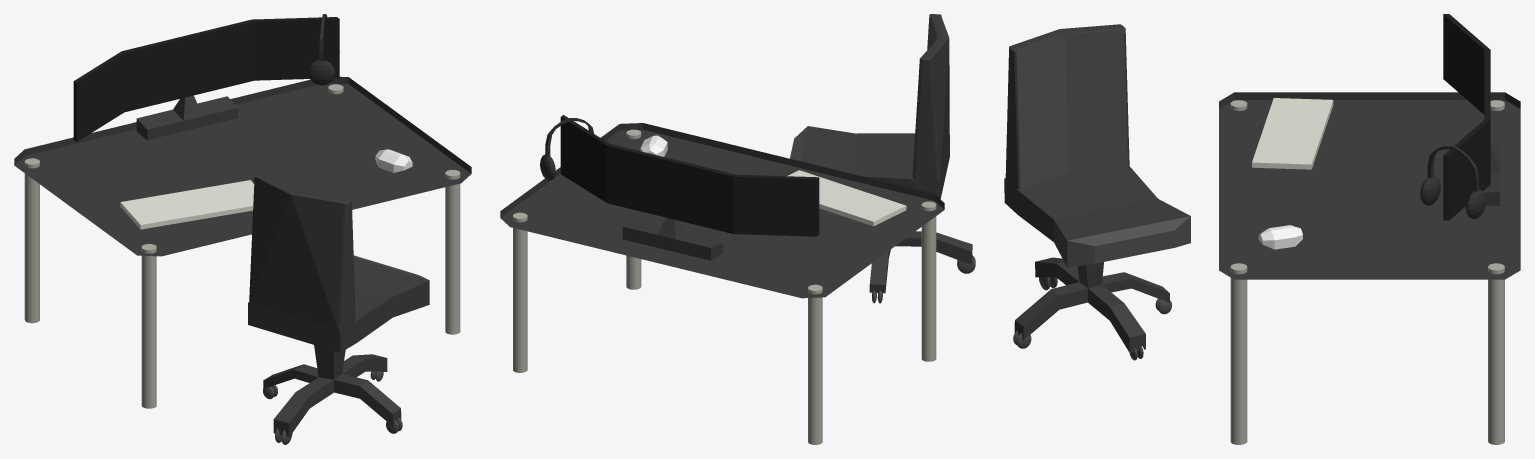
File: desk_maybe.glb
3 renders of one model, left to right at view 1: azimuth 30°, elevation 25°; view 2: azimuth 150°, elevation 25°; view 3: azimuth 270°, elevation 25°, orthographic. The views are drawn at different scales.
Parts seen in each view (by area): view 1: Table1, Seat2, Triple Monitor, White Keyboard, Headphones, White Mouse; view 2: Table1, Triple Monitor, Seat2, White Keyboard, Headphones; view 3: Table1, Seat2, Triple Monitor, White Keyboard, Headphones, White Mouse.
Part boxes in pixels (left/top/right/bottom): Table1: left=14, top=76, right=471, bottom=408; Seat2: left=248, top=173, right=429, bottom=444; Triple Monitor: left=73, top=17, right=339, bottom=141; White Keyboard: left=120, top=180, right=254, bottom=229; Headphones: left=307, top=14, right=339, bottom=85; White Mouse: left=375, top=149, right=412, bottom=172; Table1: left=500, top=123, right=944, bottom=444; Triple Monitor: left=560, top=115, right=819, bottom=260; Seat2: left=790, top=14, right=975, bottom=303; White Keyboard: left=787, top=170, right=906, bottom=226; Headphones: left=540, top=118, right=593, bottom=180; Table1: left=1219, top=92, right=1520, bottom=444; Seat2: left=1004, top=24, right=1190, bottom=360; Triple Monitor: left=1443, top=14, right=1499, bottom=220; White Keyboard: left=1252, top=98, right=1333, bottom=169; Headphones: left=1420, top=145, right=1486, bottom=219; White Mouse: left=1258, top=225, right=1302, bottom=249.
Bounding box in the file's own units: 1.65 × 1.21 × 2.
Materials: 2 (2 with a texture image).
